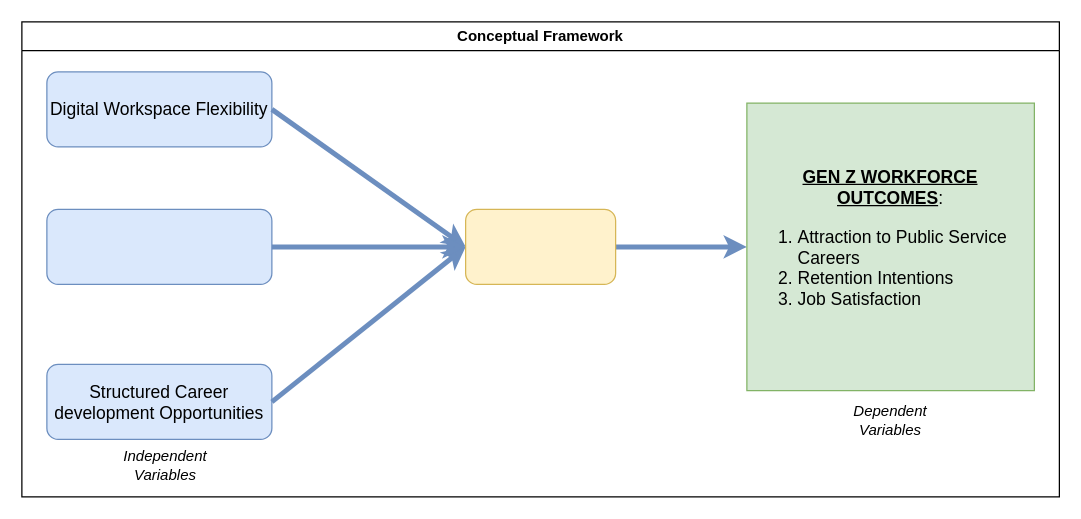
This 1081x519 diagram has some shape labels left out. Each missing label, with the centre of its shape:
Inclusive Organizational Culture: the point at 159,246
Mediating factors (social impact): the point at 540,246
